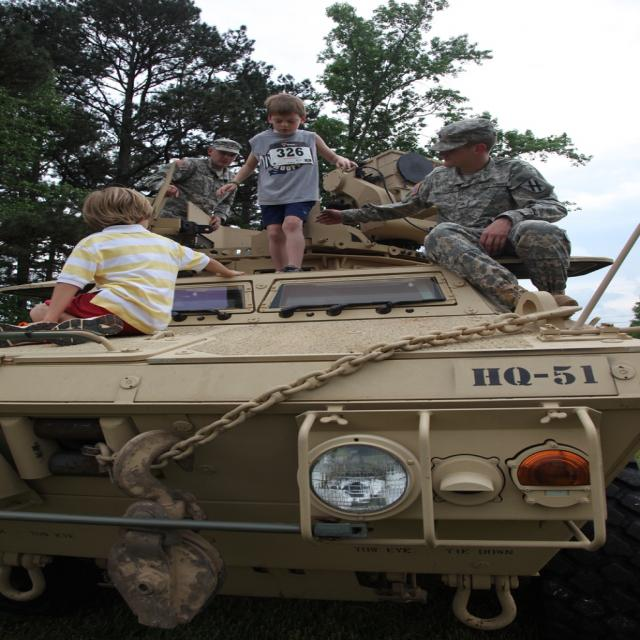tank: (0, 145, 639, 639)
